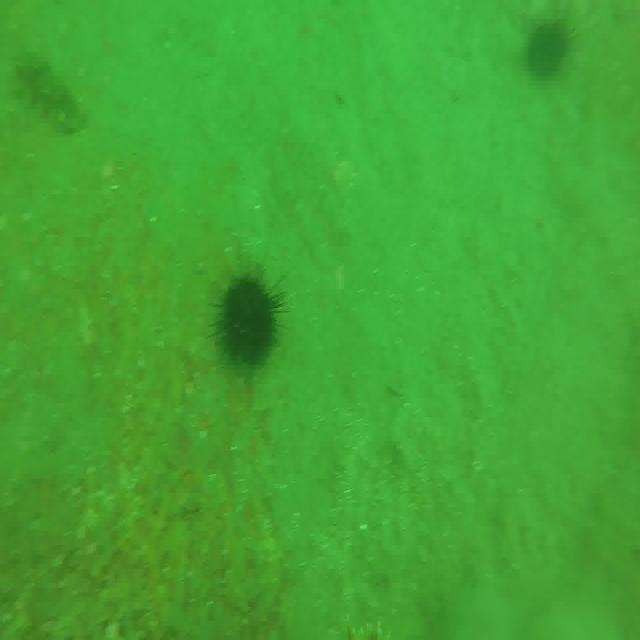echinus: (215, 271, 284, 371), (528, 17, 572, 78)
holothurian: (15, 52, 90, 132)
